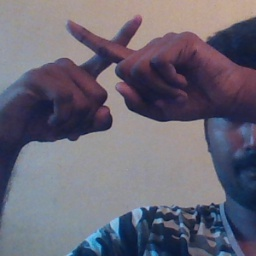X: (54, 8, 165, 118)
